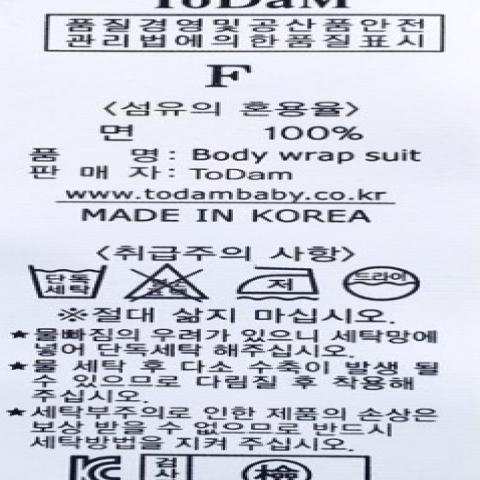dry_clean: (340, 263, 425, 303)
hand_wash: (27, 260, 108, 302)
iron_low: (240, 264, 323, 303)
non_chlorine_bleach: (123, 260, 213, 306)
